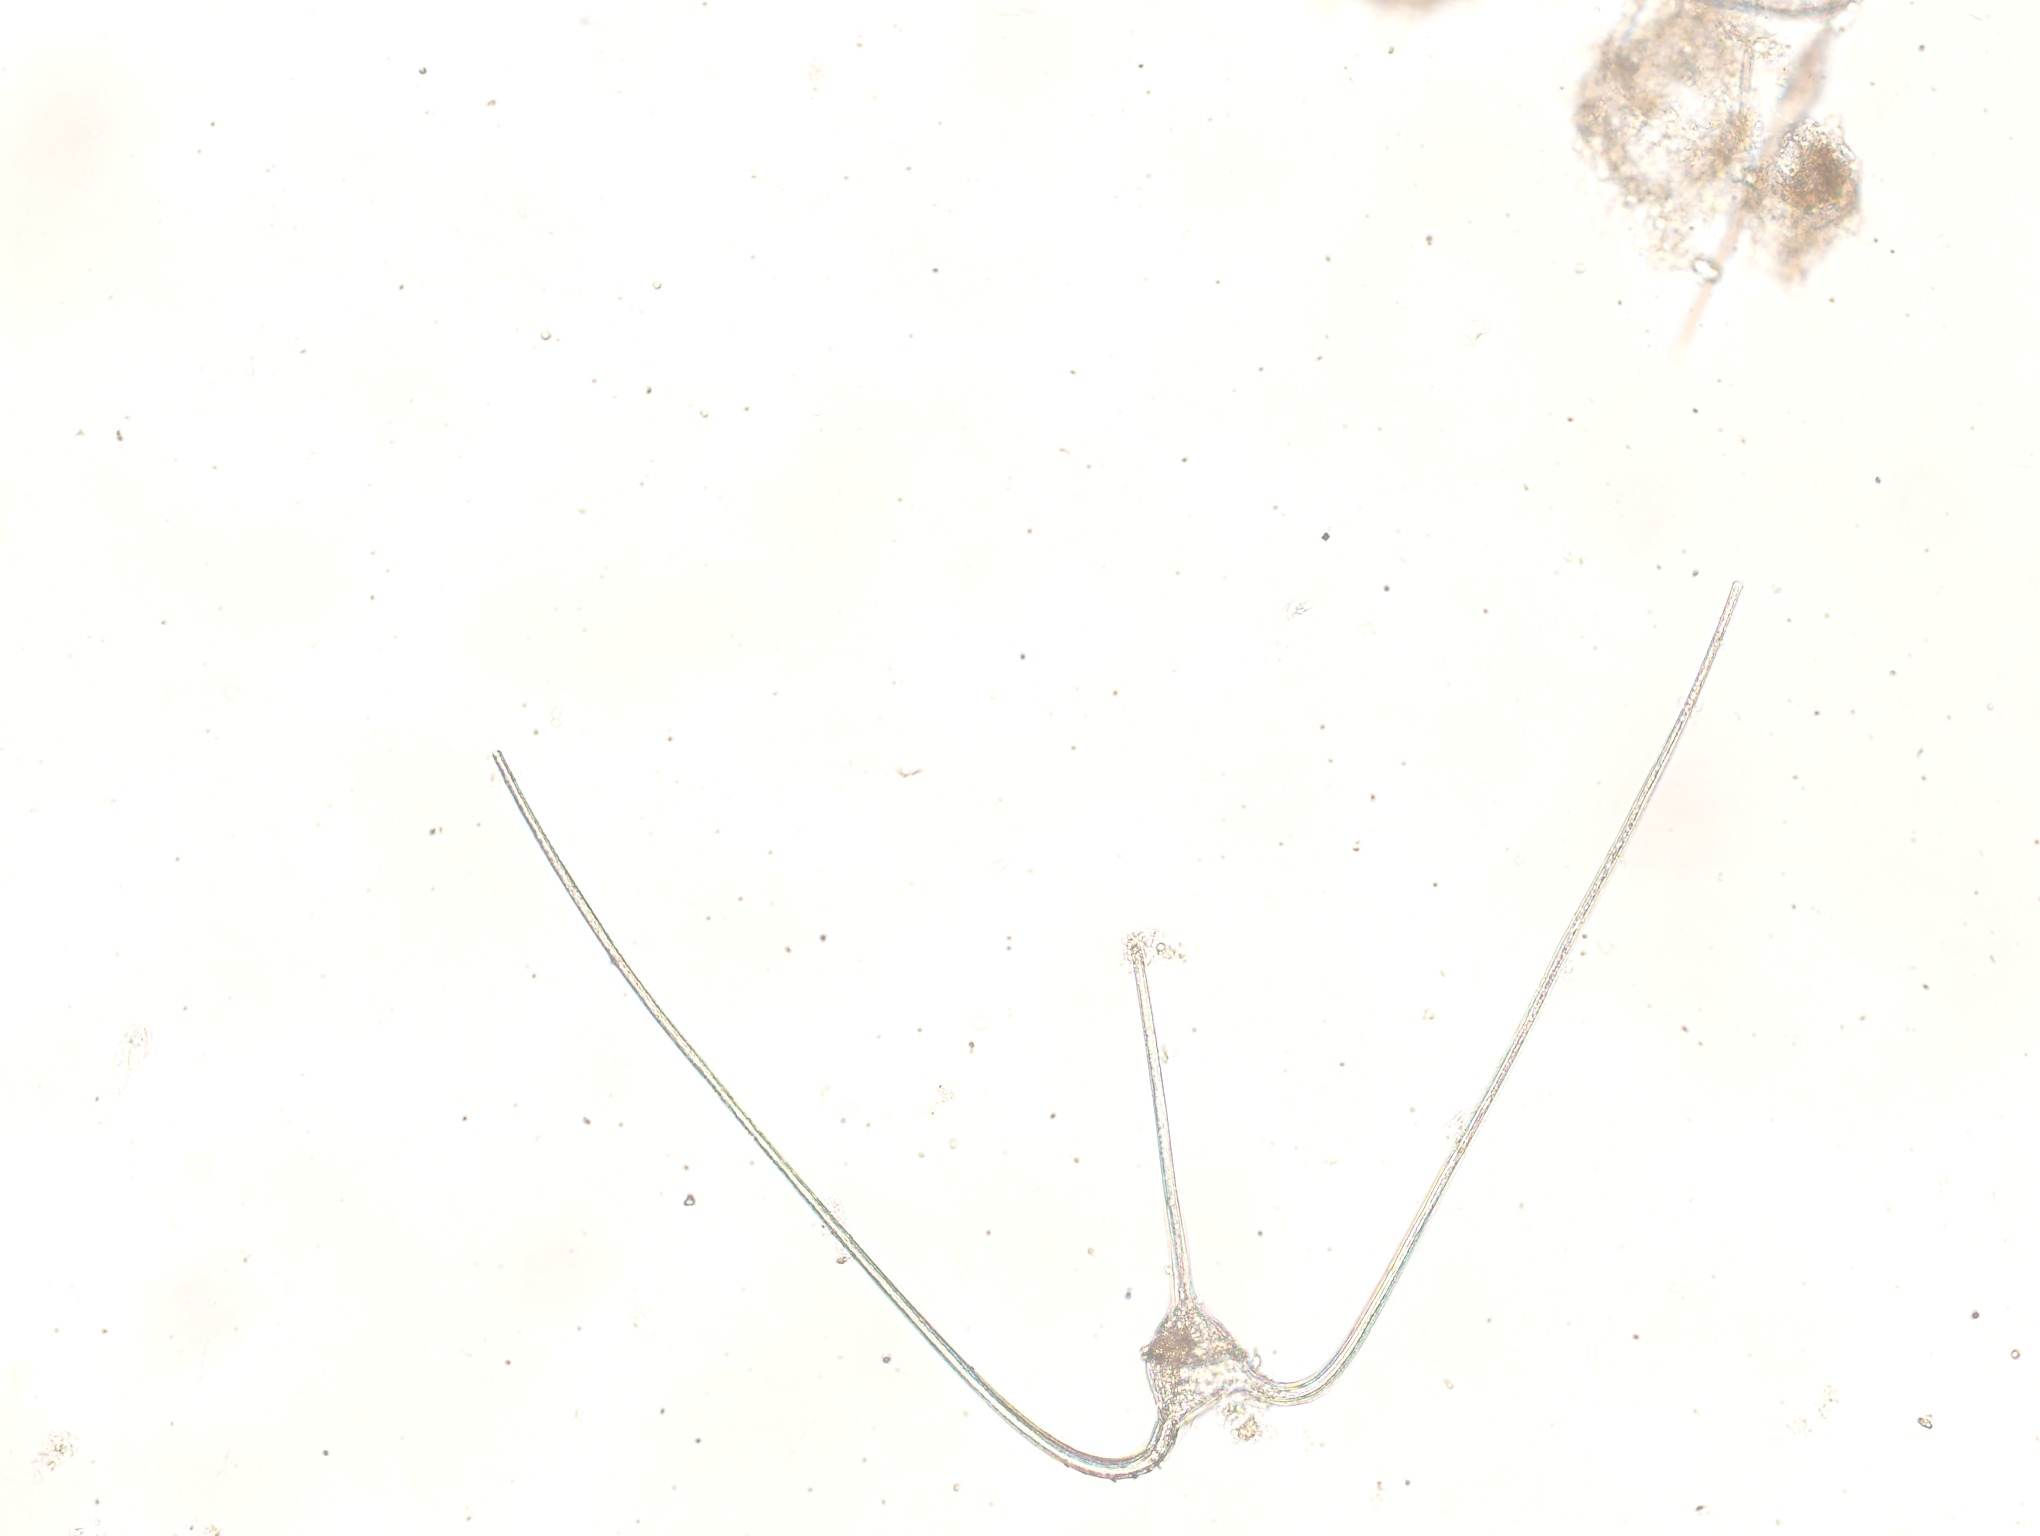ceratium carriense: (485, 573, 1759, 1488)
